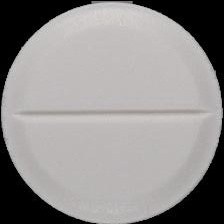50436-3995: (0, 0, 224, 224)
